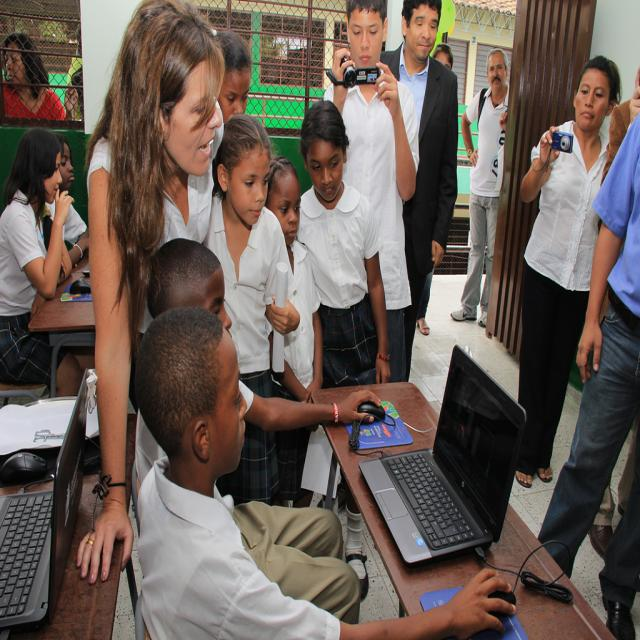Laptop: (349, 356, 527, 578), (0, 370, 88, 630)
